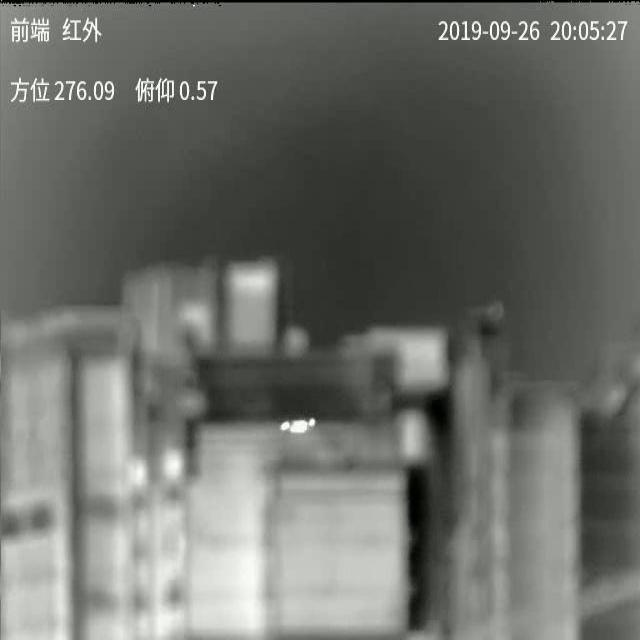drone: (280, 418, 316, 434)
